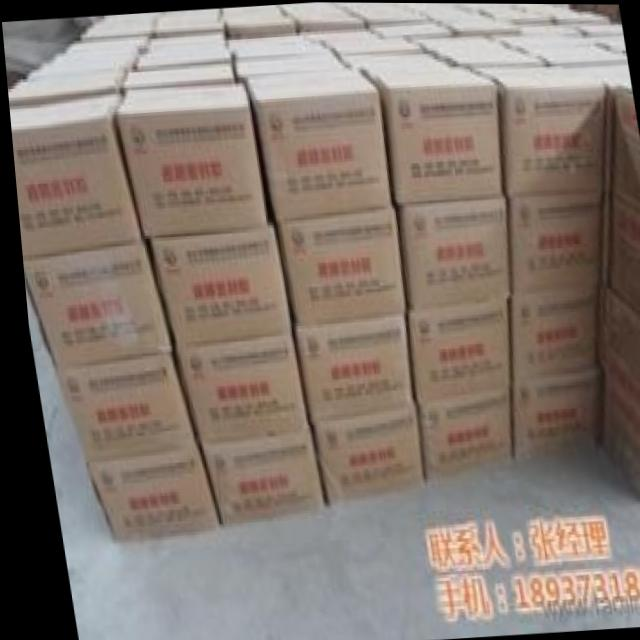box: (113, 79, 263, 238), (245, 66, 389, 218), (8, 93, 136, 260), (361, 58, 499, 202), (18, 236, 165, 367), (145, 224, 286, 345), (472, 65, 600, 197), (48, 351, 188, 462), (272, 207, 401, 322), (291, 315, 408, 430), (169, 337, 299, 440), (76, 443, 210, 542), (390, 197, 504, 309), (192, 430, 316, 526), (403, 297, 505, 402), (309, 405, 416, 502), (503, 194, 598, 294), (410, 388, 505, 484), (503, 285, 596, 379), (504, 367, 595, 458), (594, 370, 640, 508), (592, 288, 640, 413), (603, 193, 640, 316), (607, 88, 640, 205)
